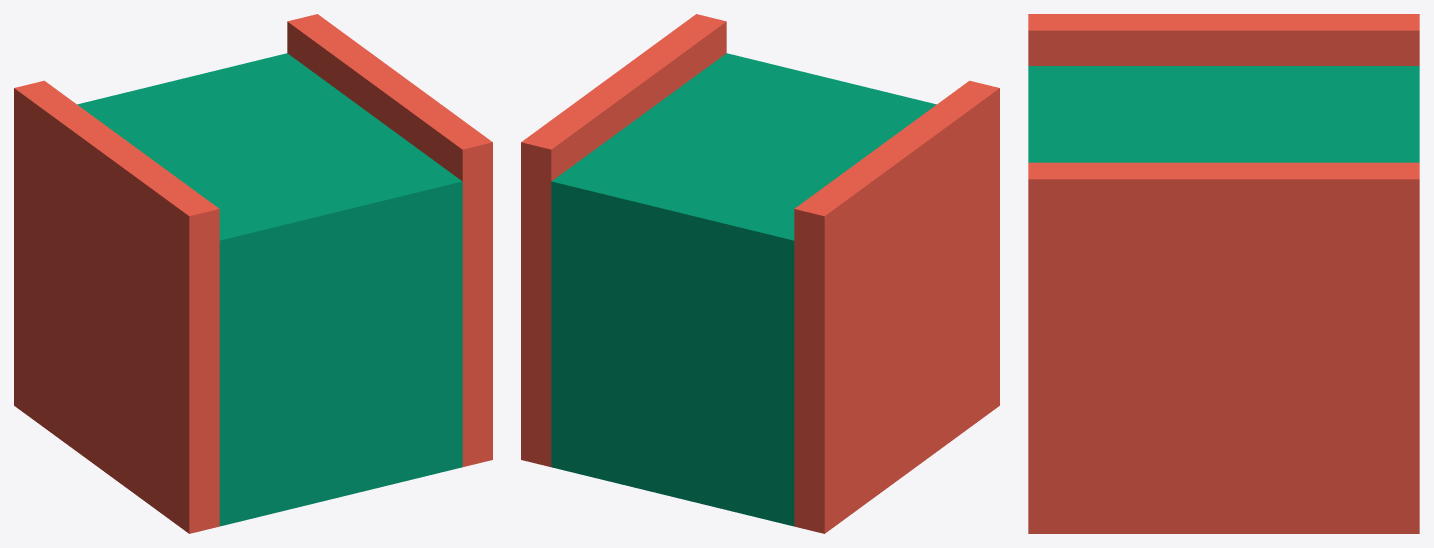
Rendered from straight.glb.
3 renders of one model, left to right at view 1: azimuth 30°, elevation 25°; view 2: azimuth 150°, elevation 25°; view 3: azimuth 270°, elevation 25°, orthographic. The views are drawn at different scales.
Visible parts, largest first — view 1: mergedBlocks(Clone); view 2: mergedBlocks(Clone); view 3: mergedBlocks(Clone).
Boxes of the visible parts, box(x1,y1,x2,y2) form: mergedBlocks(Clone): box(14, 14, 492, 533); mergedBlocks(Clone): box(521, 14, 999, 533); mergedBlocks(Clone): box(1028, 14, 1419, 533).
Bounding box in the file's own units: 1 × 1 × 1.
